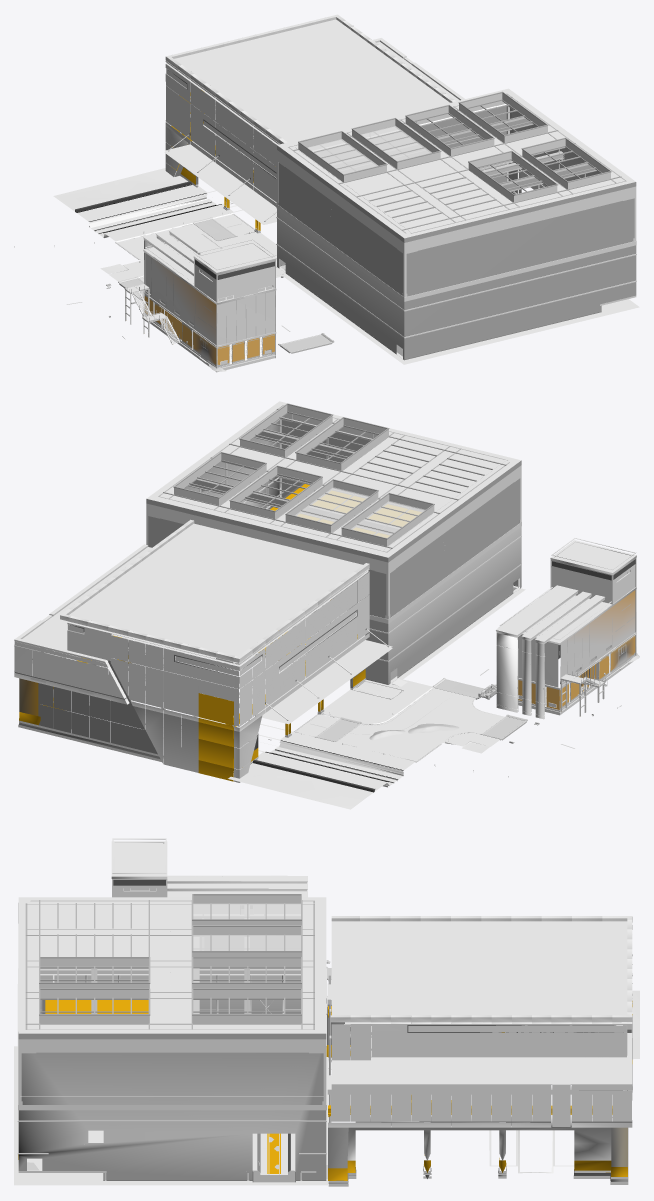
Rendered from cell_86_57.fbx.
The picture shows the model from 3 angles, top to bottom: view 1: azimuth 30°, elevation 25°; view 2: azimuth 150°, elevation 25°; view 3: azimuth 270°, elevation 25°; orthographic projection. The views are drawn at different scales.
Visible parts, largest first — view 1: SM_H_Building_FutureTech_AssemblyArea_InterWall_01L.mo, SM_H_Building_FutureTech_TransferStation_ExterWall_01.mo, SM_H_Building_FutureTech_AssemblyArea_InterWall_01B.mo, SM_H_Building_FutureTech_Aerospace_01.mo.002, SM_I_RoadFacility_Ground_A_13.mo, SM_H_Building_FutureTech_Aerospace_01_Decal.mo.002, SM_H_Building_FutureTech_AssemblyArea_InterWall_01K.mo.001, SM_H_Building_FutureTech_AssemblyArea_InterWall_01K.mo, SM_H_WalkwaySystem_MetalSupport_13.mo, SM_I_RoadFacility_Ground_A_13_Decal.mo, SM_RoadFacility_Road_AsphaltRoad_512_01.mo.044, SM_RoadFacility_Road_AsphaltRoad_512_01.mo.031; view 2: SM_H_Building_FutureTech_TransferStation_ExterWall_01.mo, SM_H_Building_FutureTech_AssemblyArea_InterWall_01L.mo, SM_H_Building_FutureTech_Aerospace_01.mo.002, SM_I_RoadFacility_Ground_A_13.mo, SM_H_Building_FutureTech_AssemblyArea_InterWall_01B.mo, SM_H_Building_FutureTech_AssemblyArea_InterWall_01K.mo.001, SM_H_Building_FutureTech_AssemblyArea_InterWall_01K.mo, SM_H_Building_FutureTech_Aerospace_01_Decal.mo.002, SM_I_RoadFacility_Ground_A_13_Decal.mo, SM_H_WalkwaySystem_MetalSupport_13.mo, SM_RoadFacility_Road_AsphaltRoad_512_01.mo.032, SM_RoadFacility_Road_AsphaltRoad_512_01.mo.031; view 3: SM_H_Building_FutureTech_AssemblyArea_InterWall_01L.mo, SM_H_Building_FutureTech_TransferStation_ExterWall_01.mo, SM_H_Building_FutureTech_AssemblyArea_InterWall_01B.mo, SM_H_Building_FutureTech_Aerospace_01.mo.002, SM_H_Building_FutureTech_AssemblyArea_InterWall_01K.mo, SM_H_Building_FutureTech_AssemblyArea_InterWall_01K.mo.001, SM_H_Building_FutureTech_TransferStation_InterWall_01B.mo, SM_I_RoadFacility_Ground_A_13.mo, SM_H_Building_FutureTech_AssemblyArea_InterWall_01G.mo, SM_I_RoadFacility_Ground_B_06B.mo.
Part boxes in pixels (x1=…): SM_H_Building_FutureTech_AssemblyArea_InterWall_01L.mo: x1=277, y1=88, x2=639, y2=364; SM_H_Building_FutureTech_TransferStation_ExterWall_01.mo: x1=164, y1=14, x2=464, y2=233; SM_H_Building_FutureTech_AssemblyArea_InterWall_01B.mo: x1=276, y1=91, x2=636, y2=338; SM_H_Building_FutureTech_Aerospace_01.mo.002: x1=143, y1=225, x2=276, y2=372; SM_I_RoadFacility_Ground_A_13.mo: x1=53, y1=168, x2=287, y2=281; SM_H_Building_FutureTech_Aerospace_01_Decal.mo.002: x1=144, y1=235, x2=275, y2=367; SM_H_Building_FutureTech_AssemblyArea_InterWall_01K.mo.001: x1=352, y1=126, x2=431, y2=168; SM_H_Building_FutureTech_AssemblyArea_InterWall_01K.mo: x1=307, y1=139, x2=377, y2=173; SM_H_WalkwaySystem_MetalSupport_13.mo: x1=125, y1=284, x2=180, y2=344; SM_I_RoadFacility_Ground_A_13_Decal.mo: x1=76, y1=184, x2=277, y2=278; SM_RoadFacility_Road_AsphaltRoad_512_01.mo.044: x1=278, y1=333, x2=334, y2=353; SM_RoadFacility_Road_AsphaltRoad_512_01.mo.031: x1=193, y1=217, x2=237, y2=240; SM_H_Building_FutureTech_TransferStation_ExterWall_01.mo: x1=14, y1=519, x2=392, y2=782; SM_H_Building_FutureTech_AssemblyArea_InterWall_01L.mo: x1=146, y1=401, x2=525, y2=684; SM_H_Building_FutureTech_Aerospace_01.mo.002: x1=496, y1=538, x2=636, y2=719; SM_I_RoadFacility_Ground_A_13.mo: x1=228, y1=678, x2=504, y2=809; SM_H_Building_FutureTech_AssemblyArea_InterWall_01B.mo: x1=146, y1=403, x2=521, y2=662; SM_H_Building_FutureTech_AssemblyArea_InterWall_01K.mo.001: x1=295, y1=487, x2=377, y2=532; SM_H_Building_FutureTech_AssemblyArea_InterWall_01K.mo: x1=351, y1=501, x2=424, y2=537; SM_H_Building_FutureTech_Aerospace_01_Decal.mo.002: x1=496, y1=589, x2=636, y2=711; SM_I_RoadFacility_Ground_A_13_Decal.mo: x1=265, y1=681, x2=490, y2=782; SM_H_WalkwaySystem_MetalSupport_13.mo: x1=560, y1=674, x2=606, y2=716; SM_RoadFacility_Road_AsphaltRoad_512_01.mo.032: x1=480, y1=714, x2=527, y2=740; SM_RoadFacility_Road_AsphaltRoad_512_01.mo.031: x1=314, y1=717, x2=361, y2=741; SM_H_Building_FutureTech_AssemblyArea_InterWall_01L.mo: x1=14, y1=895, x2=328, y2=1185; SM_H_Building_FutureTech_TransferStation_ExterWall_01.mo: x1=326, y1=916, x2=632, y2=1186; SM_H_Building_FutureTech_AssemblyArea_InterWall_01B.mo: x1=17, y1=894, x2=326, y2=1180; SM_H_Building_FutureTech_Aerospace_01.mo.002: x1=111, y1=838, x2=307, y2=897; SM_H_Building_FutureTech_AssemblyArea_InterWall_01K.mo: x1=193, y1=903, x2=300, y2=919; SM_H_Building_FutureTech_AssemblyArea_InterWall_01K.mo.001: x1=193, y1=935, x2=300, y2=950; SM_H_Building_FutureTech_TransferStation_InterWall_01B.mo: x1=327, y1=975, x2=622, y2=1122; SM_I_RoadFacility_Ground_A_13.mo: x1=326, y1=980, x2=639, y2=1059; SM_H_Building_FutureTech_AssemblyArea_InterWall_01G.mo: x1=27, y1=1047, x2=327, y2=1180; SM_I_RoadFacility_Ground_B_06B.mo: x1=489, y1=1090, x2=626, y2=1173.
Size of the model in its own units: 112 by 34.19 by 117.
